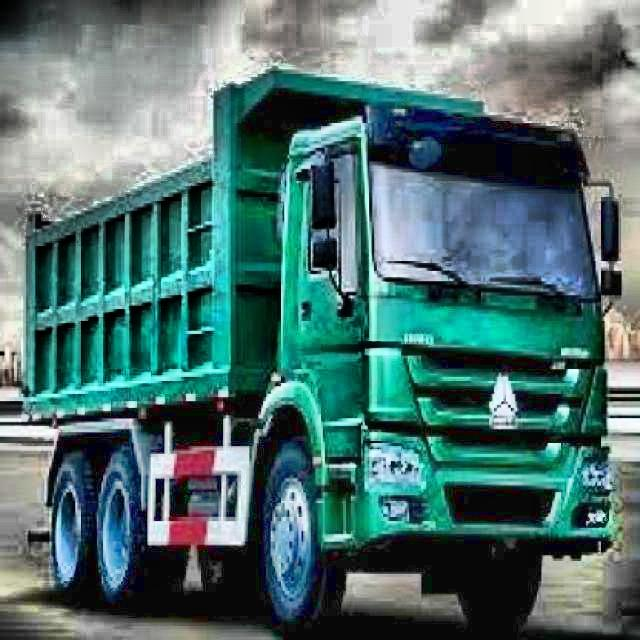dump_truck: (24, 52, 620, 640)
